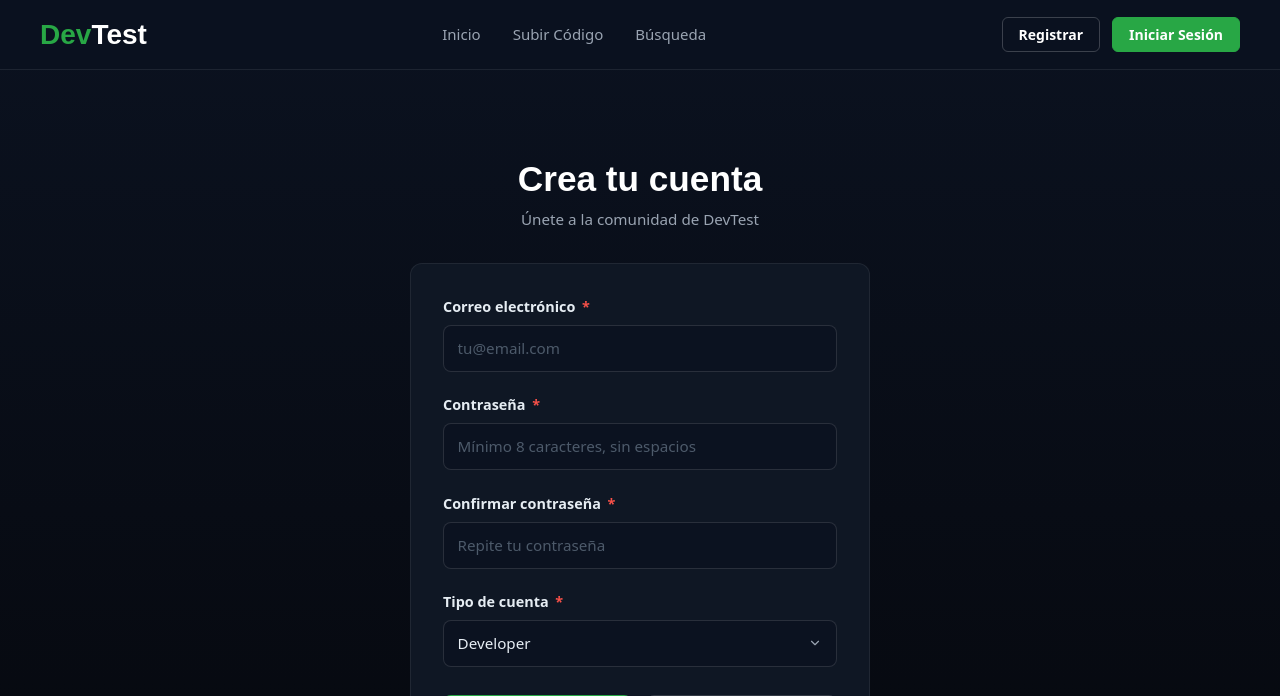
Scenario: Integración DT_01 - Registro con stub de API › DT_01_INT_2: Correo duplicado - stub responde 409 y muestra error
Type "duplicado@test.com" into the field with id "correo" at (640, 349), box left=443, top=325, right=837, bottom=372
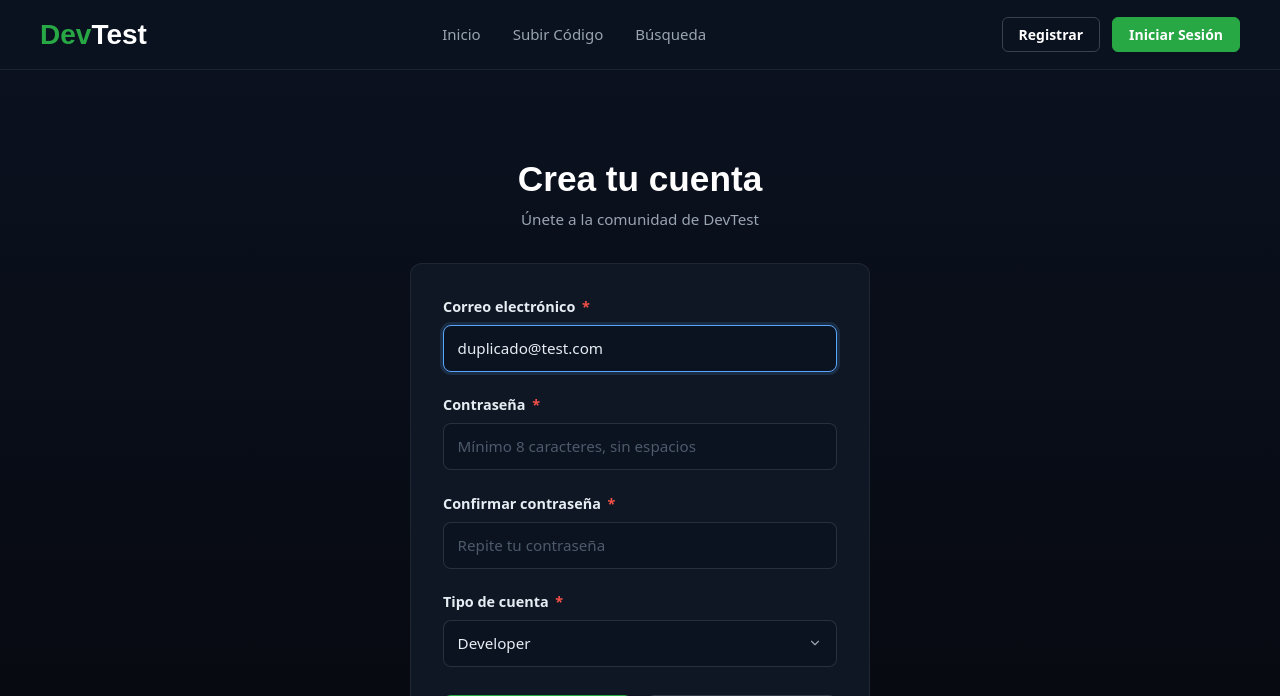
Type "12345678" into the password field with id "contrasena" at (640, 447), box left=443, top=423, right=837, bottom=470
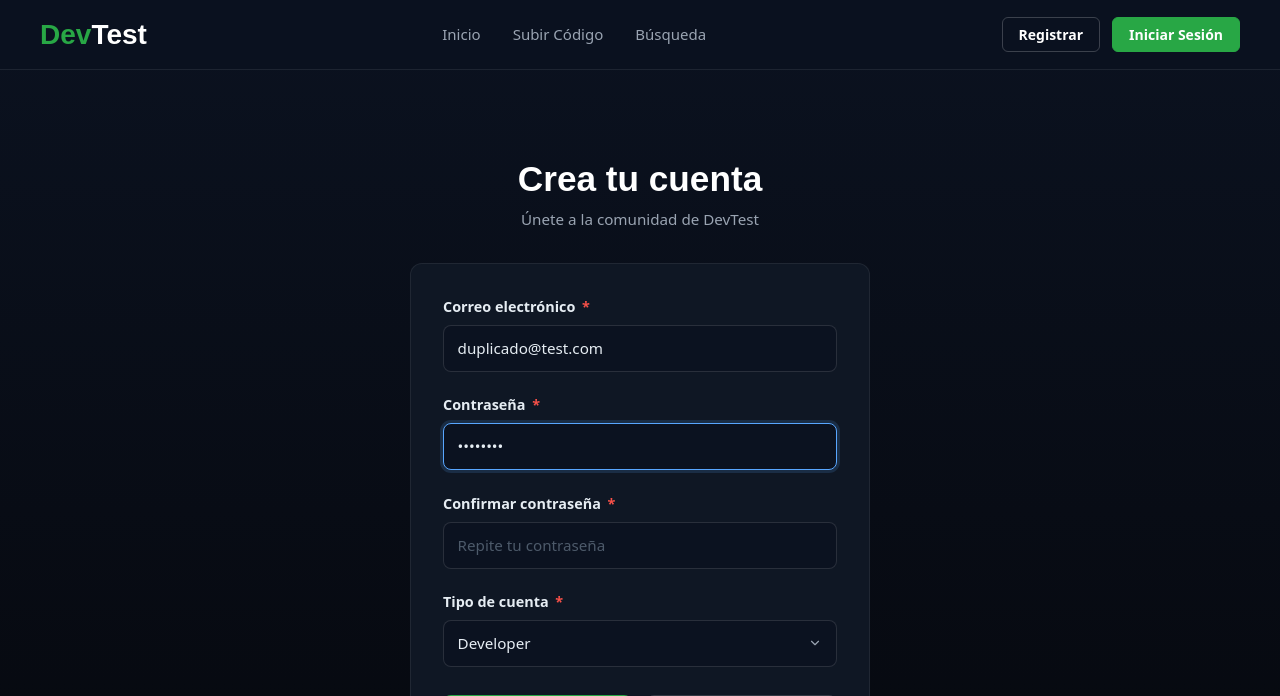
Type "12345678" into the password field with id "confirmarContrasena" at (640, 546), box left=443, top=522, right=837, bottom=569
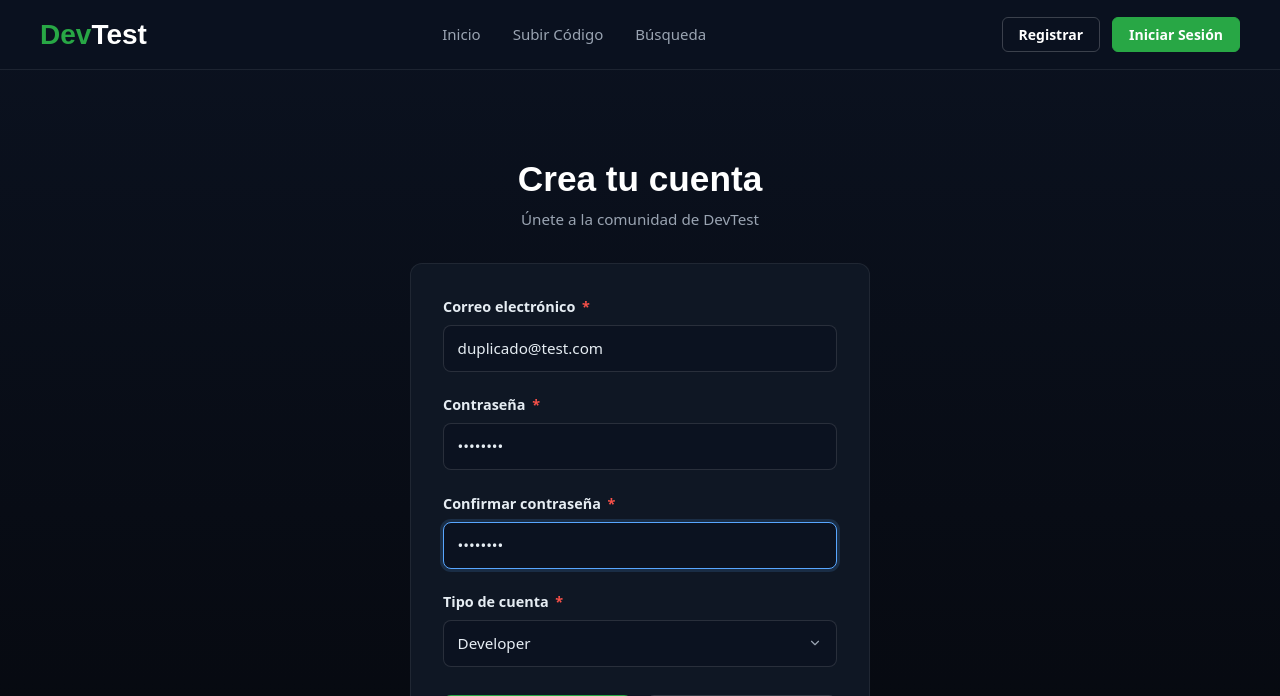
Select "Developer" in the dropdown with id "tipoCuenta" at (640, 644), box left=443, top=620, right=837, bottom=667
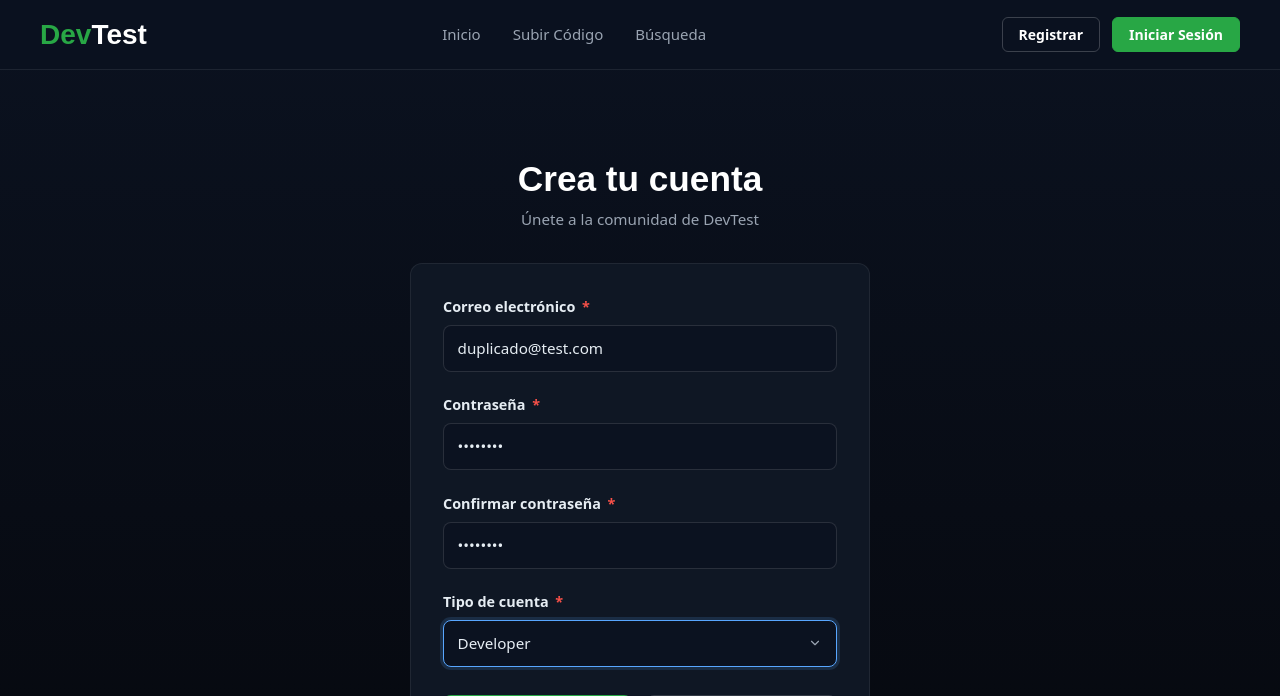
Scroll
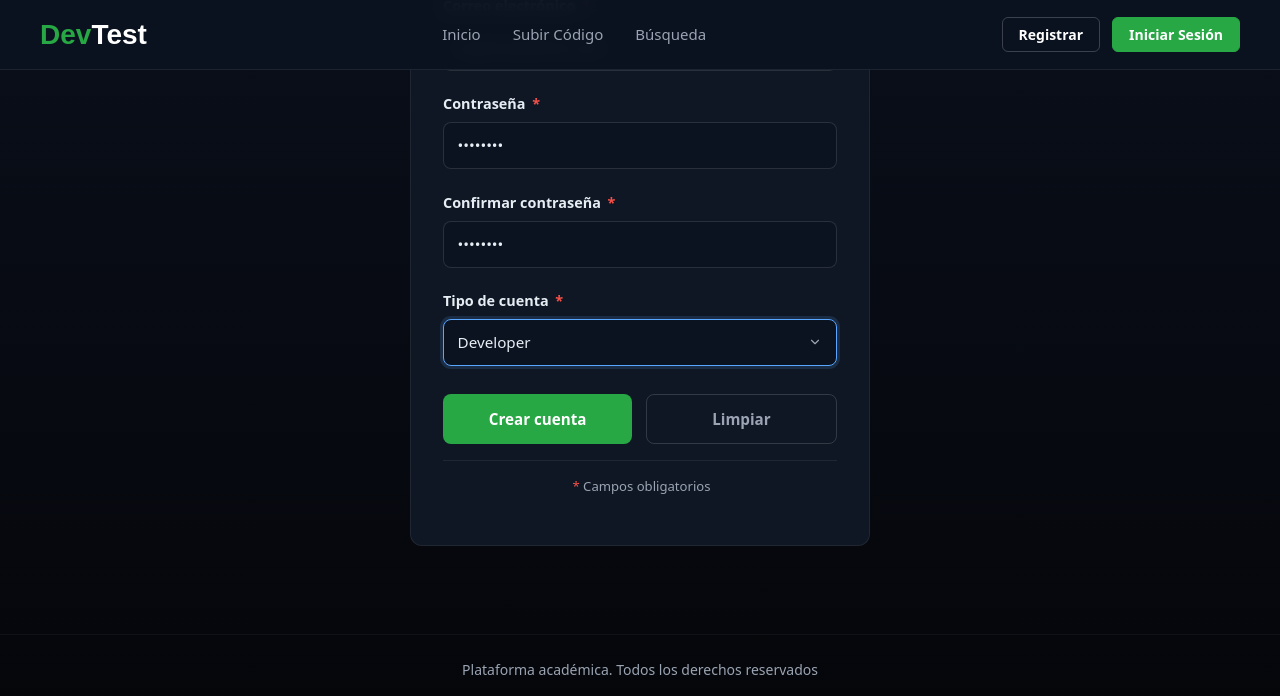
Click the button "Crear cuenta" at (538, 419), box left=443, top=394, right=632, bottom=444
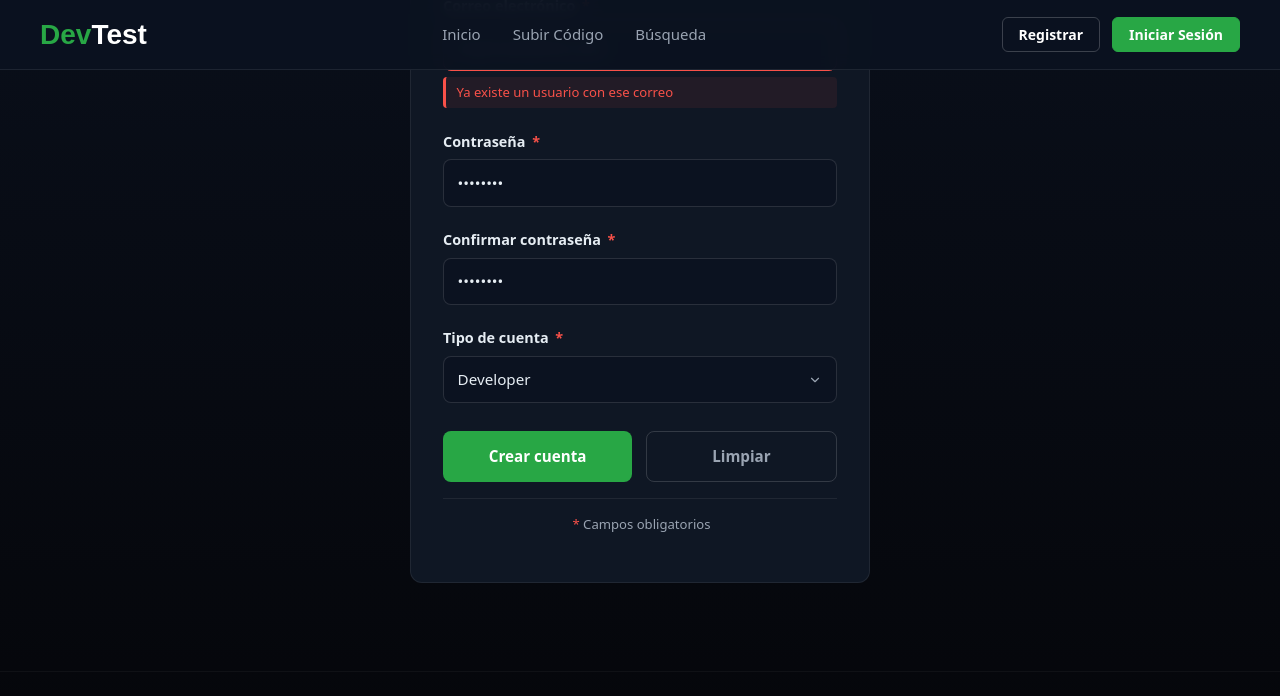
Now the text "Ya existe un usuario con ese correo" is shown, box left=443, top=77, right=837, bottom=108
